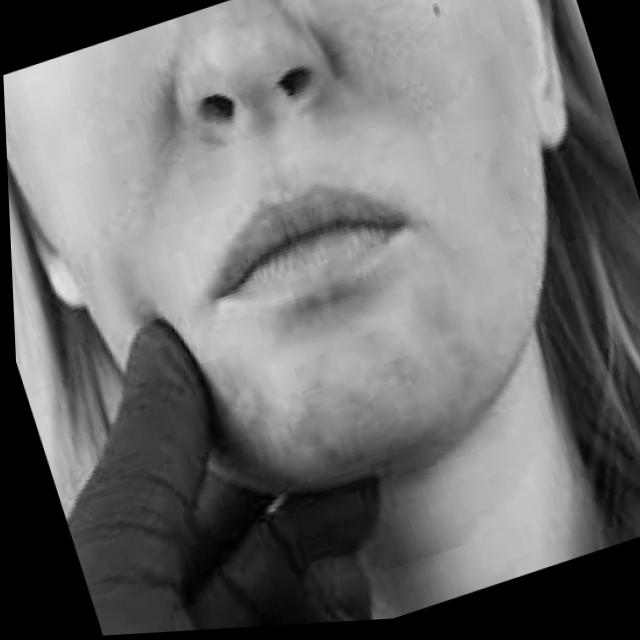Rosacea: (236, 313, 486, 483), (309, 0, 461, 174), (77, 42, 198, 196)
